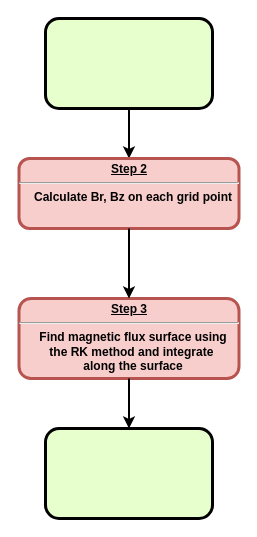
This 257x537 diagram has some shape labels left out. The shapes that lost their labels are listed below. From the top down, each one's box as (x1, y1, x2, y2) in pixels, then its label:
(44, 16, 214, 110): Step 1 Input: value of magnetic flux about (R, Z)
(44, 426, 214, 520): Step 4 Output: Integrate of dl/B against normalized magnetic flux
